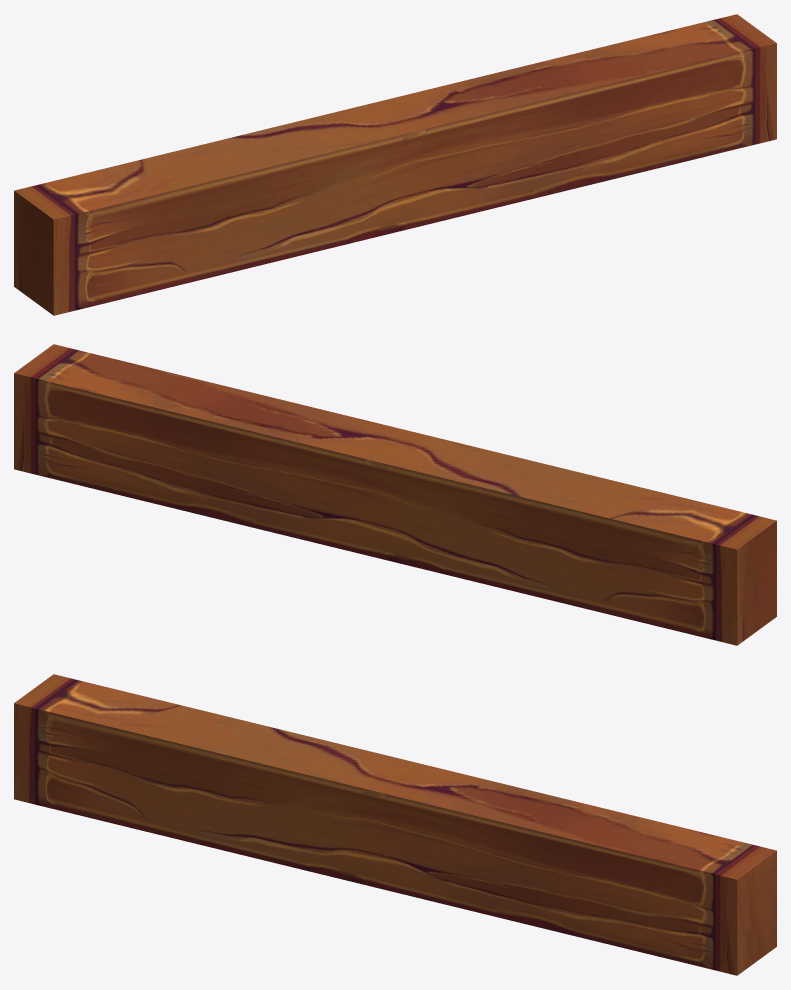
File: fence_wood_04.fbx
The picture shows the model from 3 angles, top to bottom: view 1: azimuth 30°, elevation 25°; view 2: azimuth 150°, elevation 25°; view 3: azimuth 330°, elevation 25°; orthographic projection.
Visible parts, largest first — view 1: fence_wood_04; view 2: fence_wood_04; view 3: fence_wood_04.
Boxes of the visible parts, left/top/right/bottom form: fence_wood_04: left=14, top=14, right=776, bottom=315; fence_wood_04: left=14, top=344, right=776, bottom=645; fence_wood_04: left=14, top=674, right=776, bottom=975.
Bounding box in the file's own units: 315 × 40 × 30.08.
